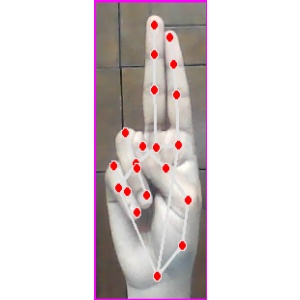U: (94, 2, 206, 300)
